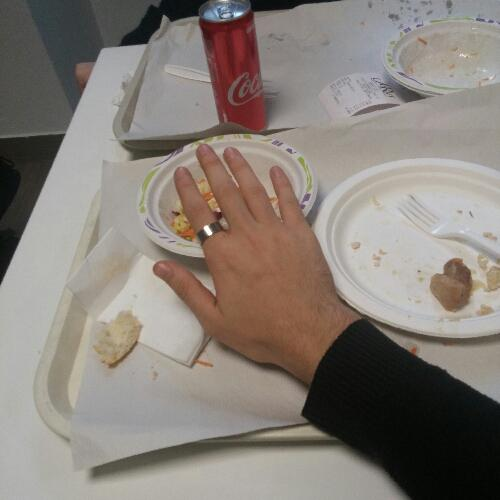paper: (146, 134, 375, 370)
